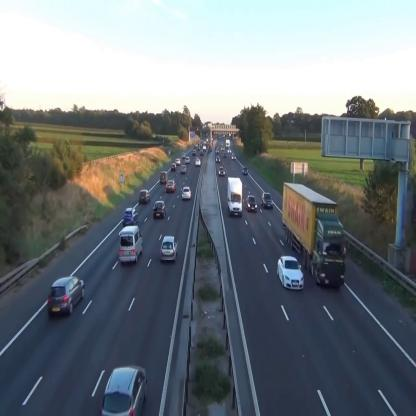car: (101, 365, 147, 416), (48, 276, 85, 315), (276, 256, 304, 290), (160, 235, 179, 263), (122, 208, 138, 226), (153, 201, 167, 217), (246, 194, 257, 214), (261, 192, 273, 209), (139, 189, 150, 203), (166, 180, 176, 192), (182, 186, 191, 198), (160, 171, 168, 184), (218, 166, 226, 175), (242, 166, 248, 176), (180, 164, 186, 173), (171, 163, 176, 172), (195, 159, 201, 166), (185, 156, 190, 164), (216, 155, 220, 162), (182, 152, 186, 158), (192, 149, 196, 155), (200, 150, 203, 155)
lorry: (301, 182, 345, 284), (119, 226, 143, 262), (227, 176, 242, 218)
